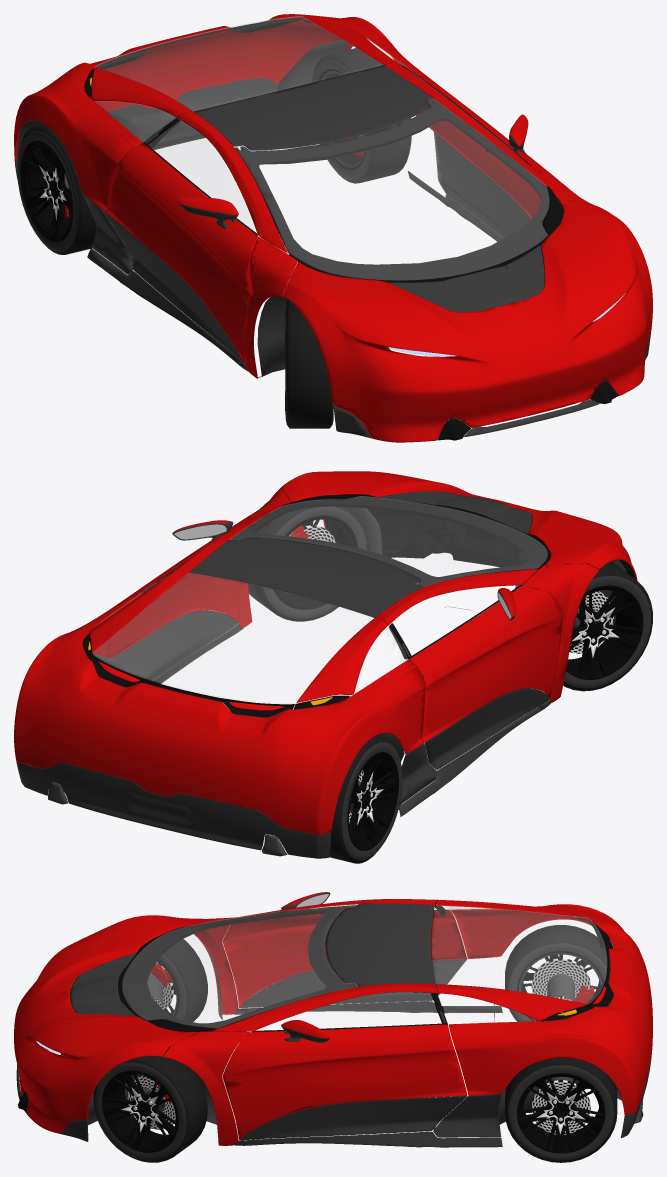
File: car.glb
3 views of the same model, one above another, from view 1: azimuth 30°, elevation 25°; view 2: azimuth 150°, elevation 25°; view 3: azimuth 270°, elevation 25° (orthographic). The views are drawn at different scales.
Parts seen in each view (by area): view 1: BodyHood, BodyWindshield, BodyRearPanelsColor1, BodyRearwindow, BodyDoorRColor1, BodyRoofPanel, BodyWindshieldGasket, BodyPanelsColor2, BodyPillars, BodyHoodTopgrill, WheelFrontR, BodyDoorLColor2 (+11 smaller); view 2: BodyRearPanelsColor1, BodyRearwindow, BodyWindshield, BodyPanelsColor2, BodyDoorRColor1, BodyRoofPanel, BodyHood, BodyPillars, BodyWindshieldGasket, BodyHoodInterior01, WheelFrontRRim, BodyDoorLColor1 (+12 smaller); view 3: BodyRearPanelsColor1, BodyWindshield, BodyDoorLColor1, BodyHood, BodyRearwindow, BodyPillars, BodyRoofPanel, BodyPanelsColor2, BodyDoorRColor1, BodyWindshieldGasket, BodyDoorLColor2, WheelFrontL (+17 smaller).
Boxes of the visible parts, x1,y1,x2,y2 form: BodyHood: (283, 198, 652, 442); BodyWindshield: (234, 98, 549, 280); BodyRearPanelsColor1: (14, 14, 434, 210); BodyRearwindow: (95, 16, 382, 110); BodyDoorRColor1: (104, 143, 257, 362); BodyRoofPanel: (193, 65, 432, 150); BodyWindshieldGasket: (234, 99, 563, 282); BodyPanelsColor2: (15, 77, 651, 438); BodyPillars: (176, 61, 598, 378); BodyHoodTopgrill: (388, 245, 544, 312); WheelFrontR: (285, 299, 333, 428); BodyDoorLColor2: (434, 132, 531, 238); BodyRearPanelsColor1: (14, 569, 425, 834); BodyRearwindow: (92, 573, 373, 703); BodyWindshield: (229, 496, 547, 587); BodyPanelsColor2: (16, 624, 550, 858); BodyDoorRColor1: (409, 585, 562, 742); BodyRoofPanel: (189, 537, 422, 617); BodyHood: (279, 471, 637, 580); BodyPillars: (175, 489, 599, 702); BodyWindshieldGasket: (230, 496, 550, 587); BodyHoodInterior01: (282, 489, 635, 578); WheelFrontRRim: (566, 585, 643, 679); BodyDoorLColor1: (106, 517, 250, 658); BodyRearPanelsColor1: (436, 899, 652, 1115); BodyWindshield: (122, 904, 357, 1028); BodyDoorLColor1: (222, 1024, 467, 1139); BodyHood: (14, 915, 196, 1133); BodyRearwindow: (432, 905, 606, 1003); BodyPillars: (163, 899, 437, 1145); BodyRoofPanel: (326, 903, 434, 986); BodyPanelsColor2: (16, 957, 652, 1147); BodyDoorRColor1: (222, 909, 467, 1007); BodyWindshieldGasket: (118, 905, 357, 1032); BodyDoorLColor2: (240, 1096, 467, 1140); WheelFrontL: (93, 1050, 207, 1162).
Bounding box in the file's own units: 2.54 × 1.15 × 4.36.
15 materials, 1 textured.
